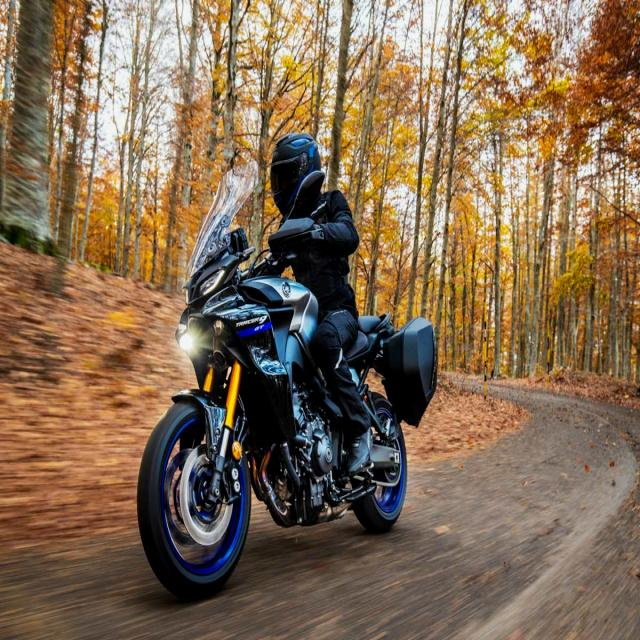MOTORCYCLE: (146, 278, 436, 606)
